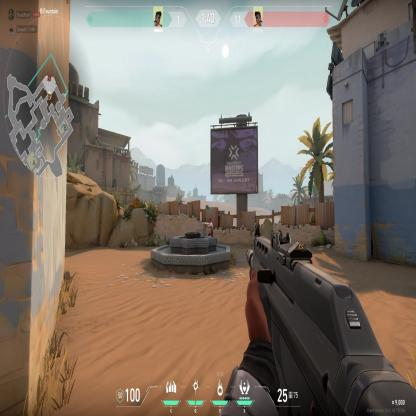enemy: (205, 217, 214, 236)
